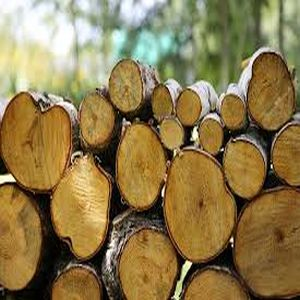log: (160, 147, 237, 261), (228, 186, 300, 298), (1, 91, 74, 198), (48, 151, 114, 263), (112, 120, 169, 214), (1, 182, 49, 291), (114, 222, 181, 300), (243, 47, 297, 132), (222, 135, 269, 201), (103, 54, 149, 120), (77, 90, 120, 155), (267, 119, 300, 191), (44, 264, 100, 300), (195, 115, 226, 153), (174, 87, 203, 126), (218, 92, 247, 130), (156, 115, 186, 151), (151, 82, 176, 124)
